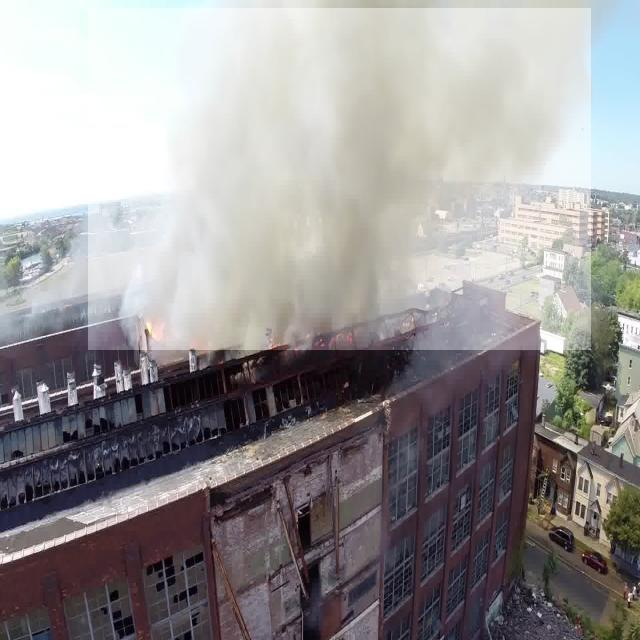Smoke: (88, 8, 591, 350)
